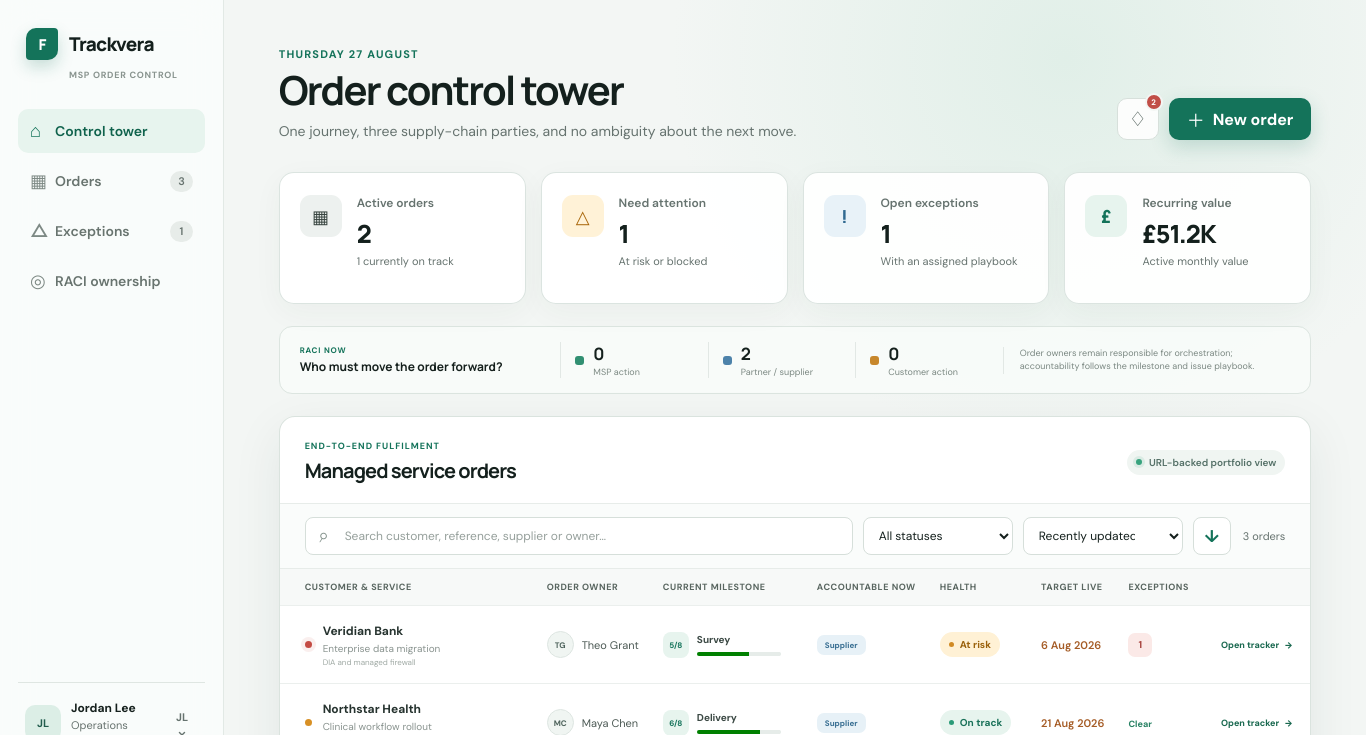
it: MSP order orchestration › edits a project without resetting its delivery journey
expect the text "Veridian Bank" is shown: met, box [323,622,403,638]
Step 1. Click the button with aria-label "Open Veridian Bank order tracker" → point(1257, 644), box [1213,632,1301,656]
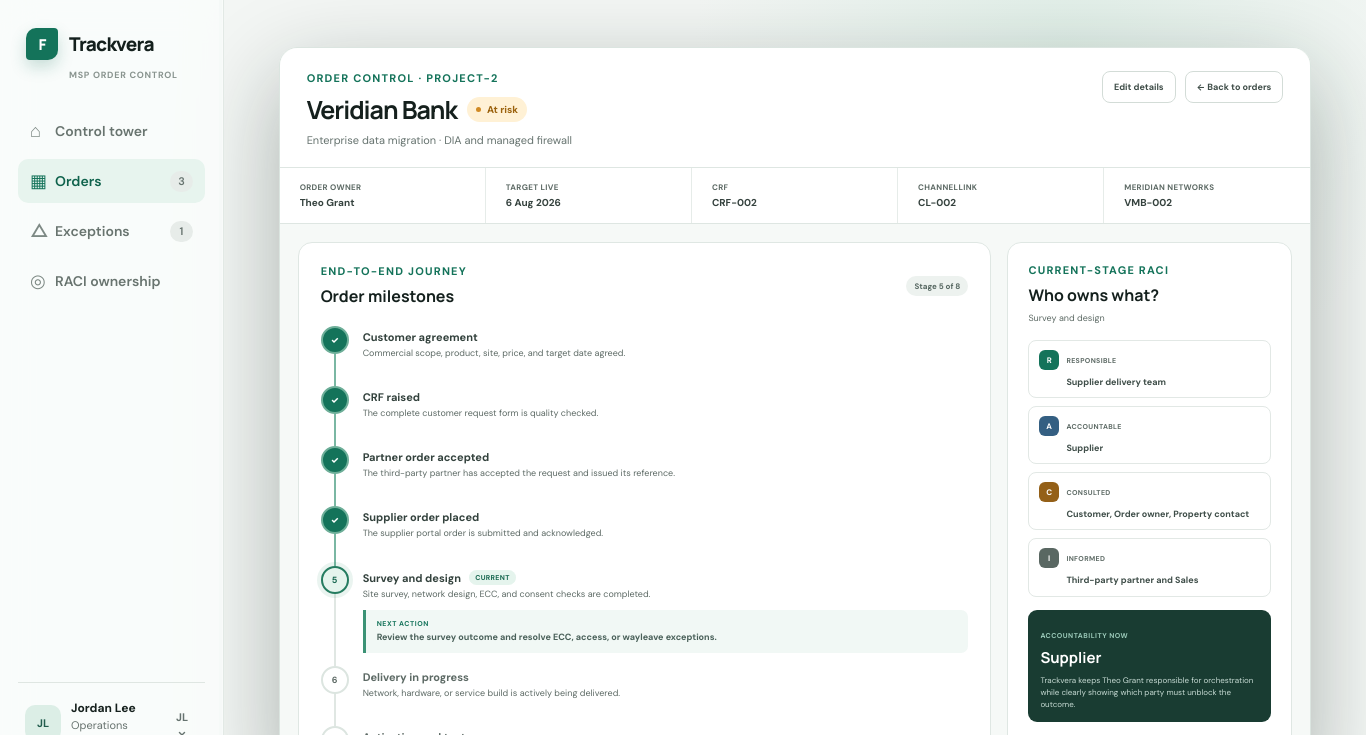
Step 2. Click the button "Edit details" → point(1139, 87), box [1102,71,1176,103]
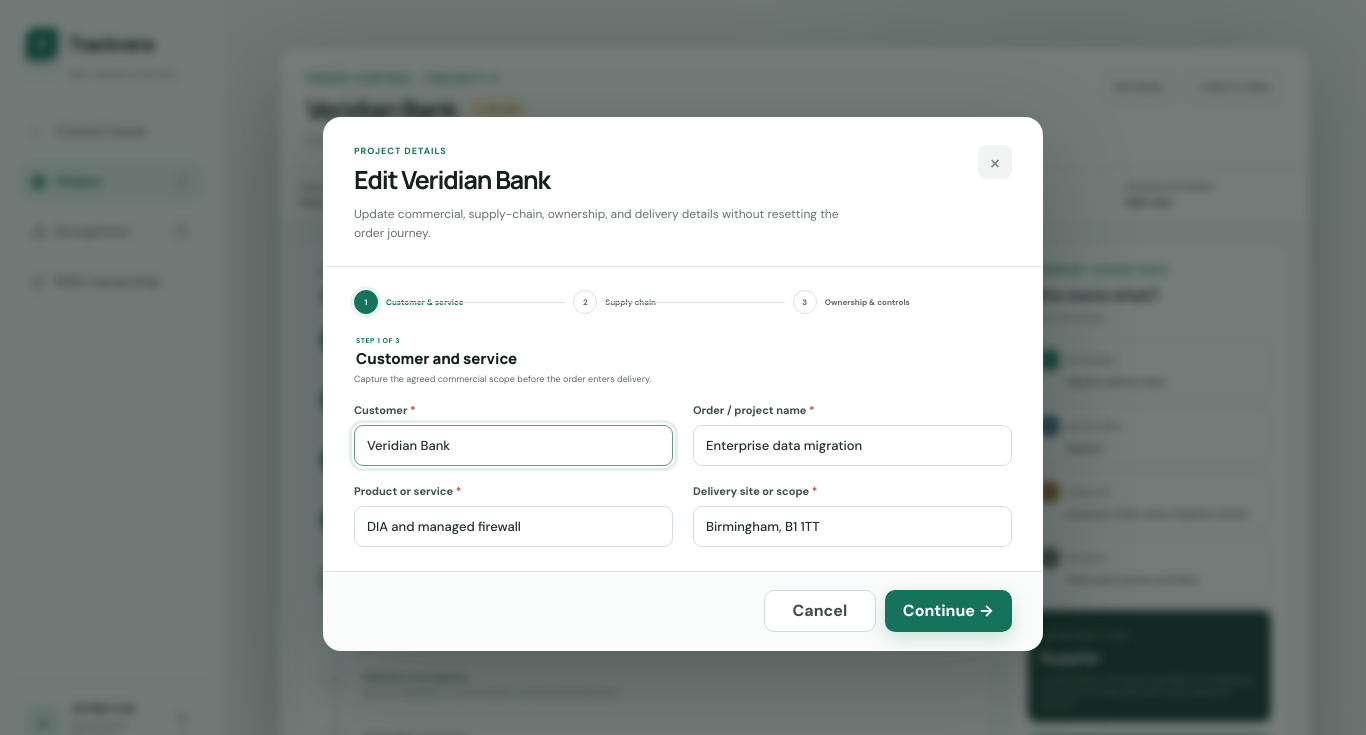
expect the field labelled "Customer *" holds "Veridian Bank": met
Step 3. Replace the text in the field labelled "Customer *" with "Veridian Group" → point(514, 445), box [354,425,673,466]
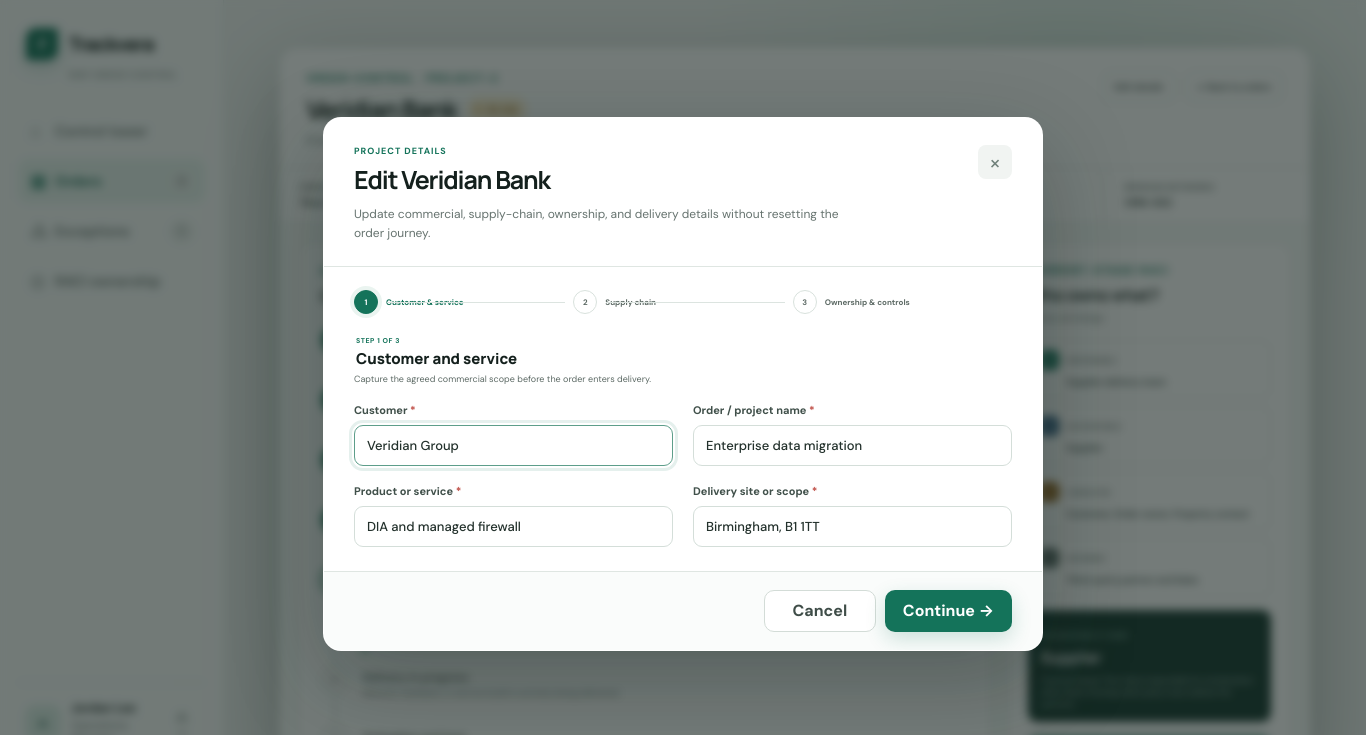
Step 4. Click the button "Continue →" → point(948, 611), box [885,590,1012,632]
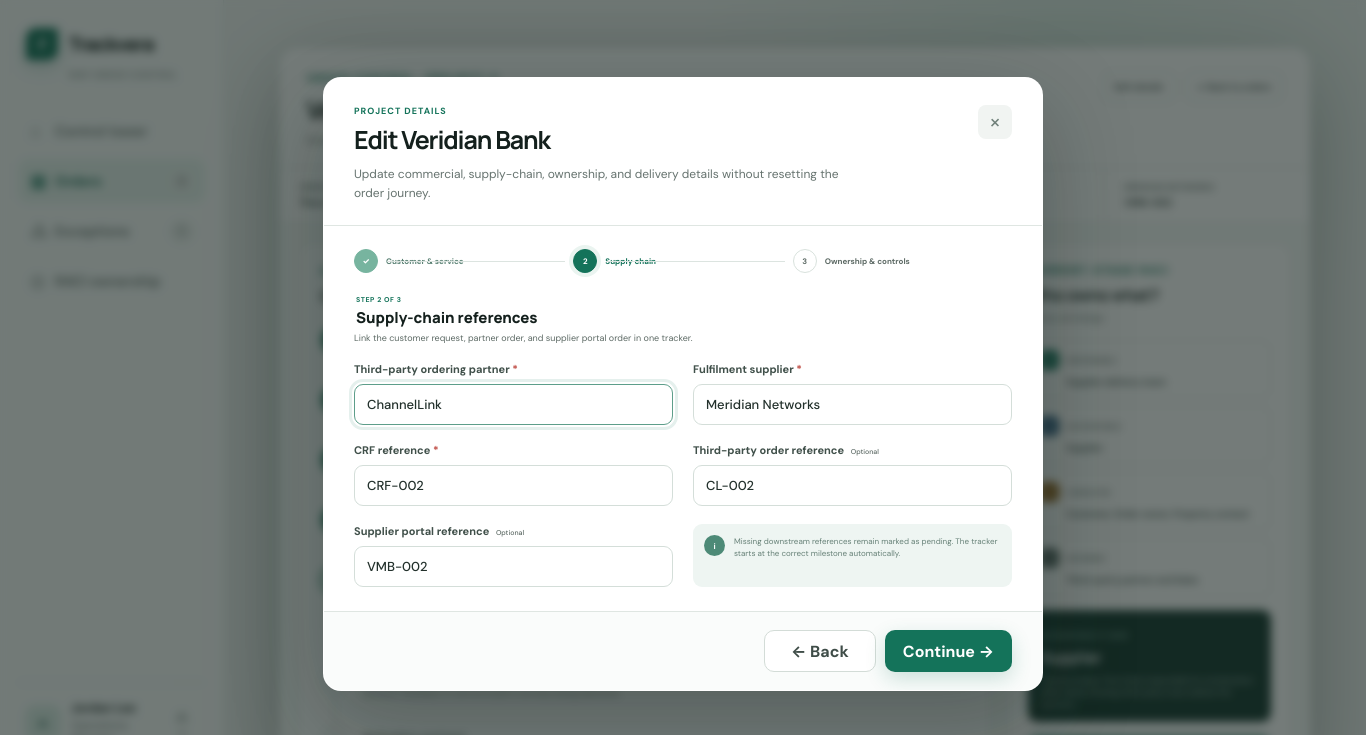
Step 5. Click the button "Continue →" → point(948, 651), box [885,630,1012,672]
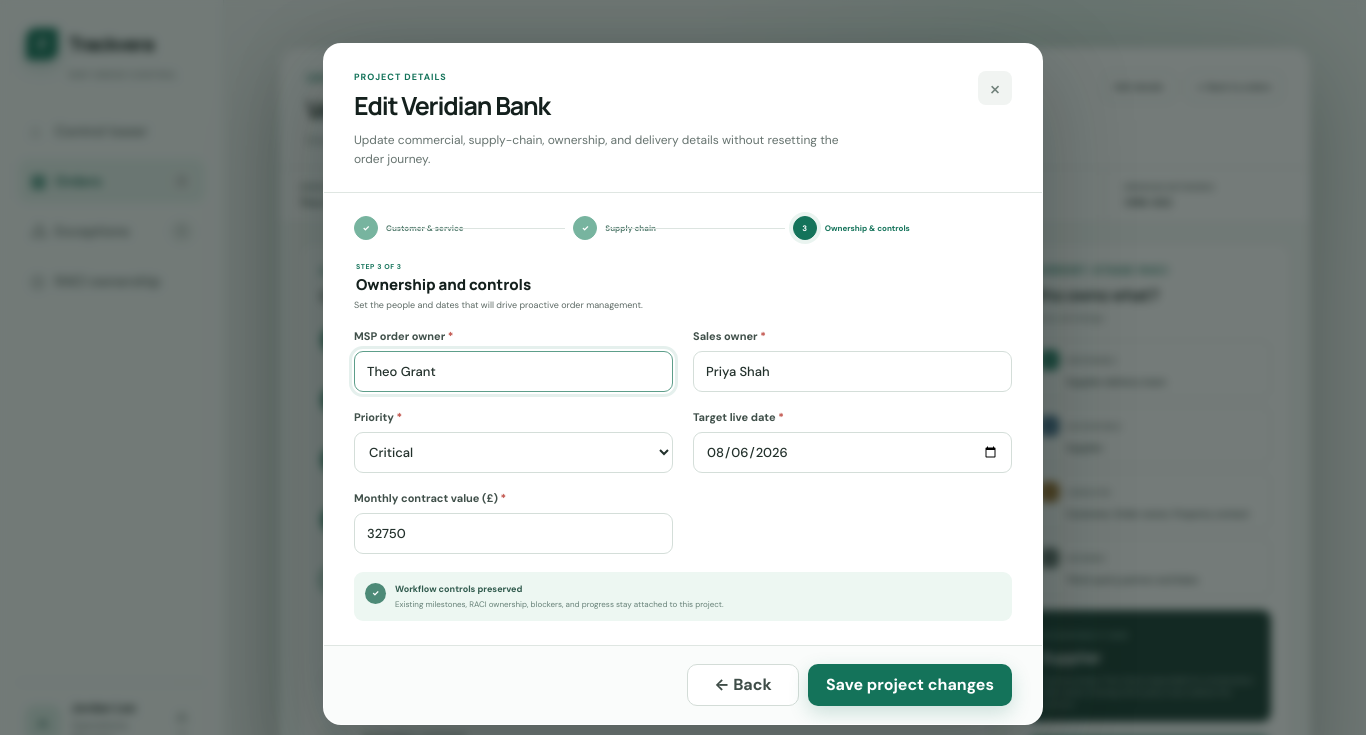
Step 6. Click the button "Save project changes" → point(910, 685), box [808,664,1012,706]
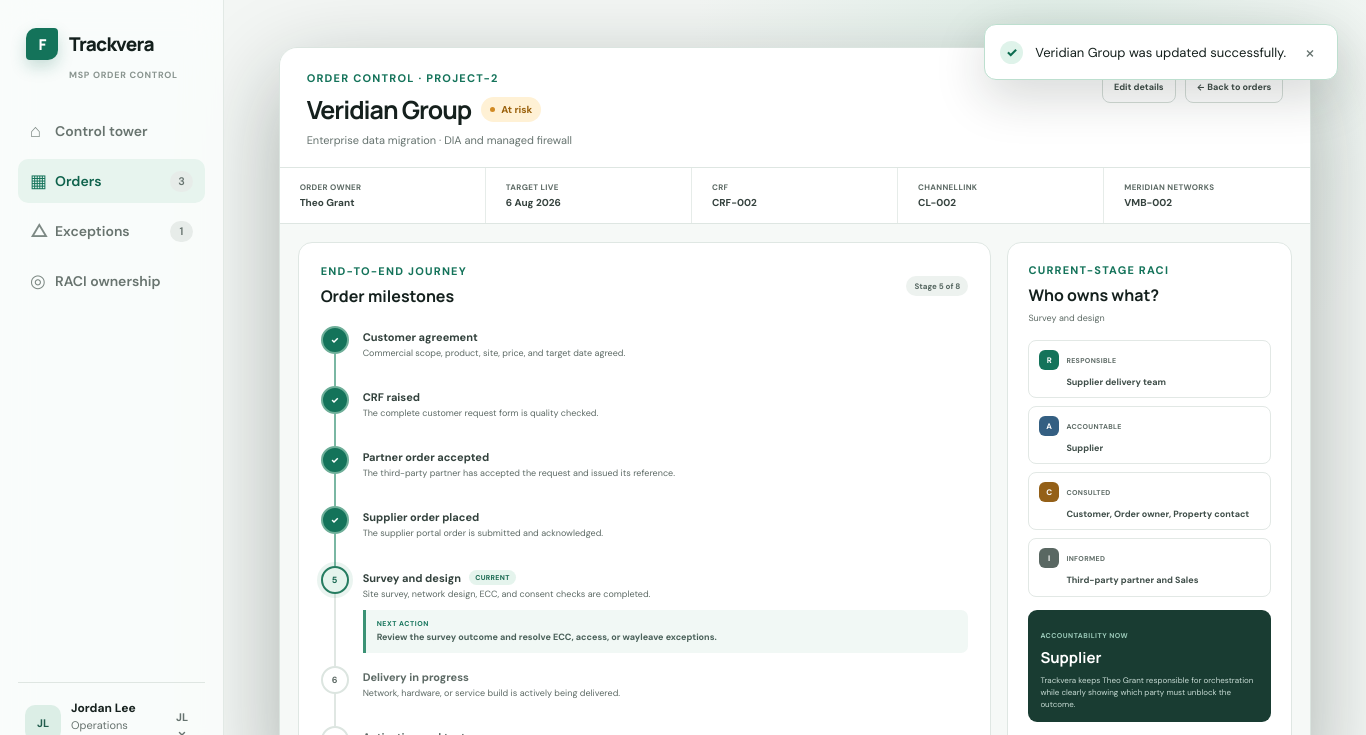
expect the text "Veridian Group was updated successfully." is shown: met, box [1035,44,1286,60]
expect the heading "Veridian Group" is shown: met, box [307,92,471,127]
